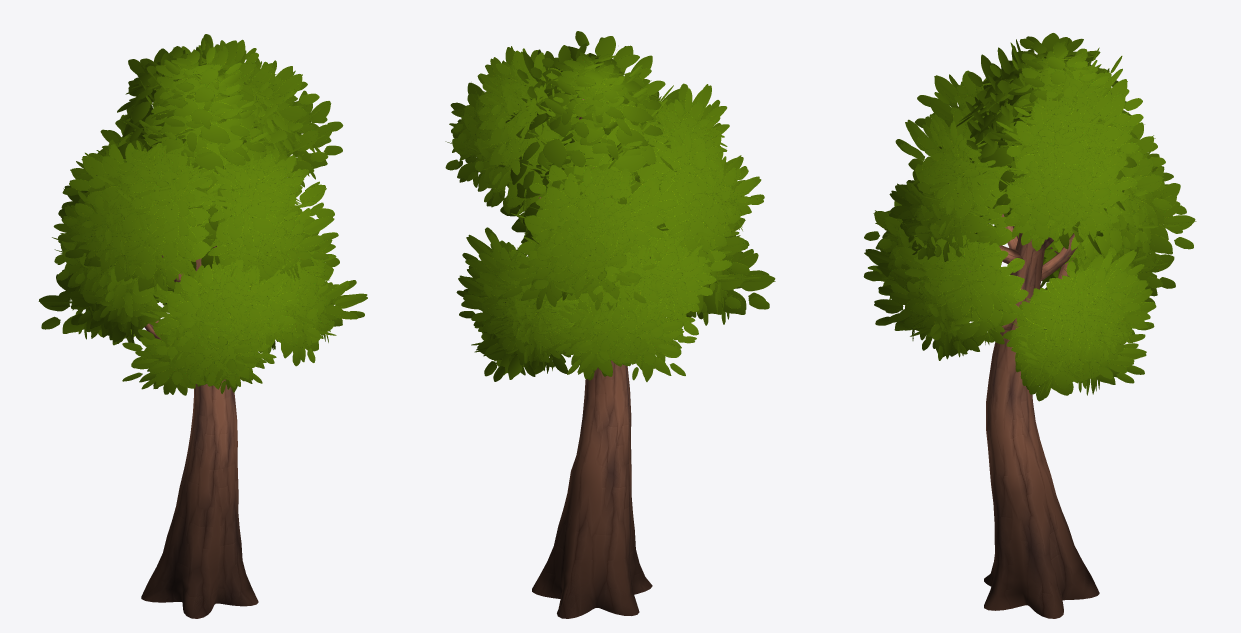
File: CommonTree_1.gltf
The picture shows the model from 3 angles, left to right: view 1: azimuth 30°, elevation 25°; view 2: azimuth 150°, elevation 25°; view 3: azimuth 270°, elevation 25°; orthographic projection. The views are drawn at different scales.
Parts seen in each view (by area): view 1: CommonTree_1; view 2: CommonTree_1; view 3: CommonTree_1.
Boxes of the visible parts, left/top/right/bottom form: CommonTree_1: left=38, top=34, right=367, bottom=618; CommonTree_1: left=445, top=31, right=775, bottom=618; CommonTree_1: left=863, top=33, right=1196, bottom=618.
Bounding box in the file's own units: 4.31 × 7.26 × 4.58.
2 materials, 2 textured.
